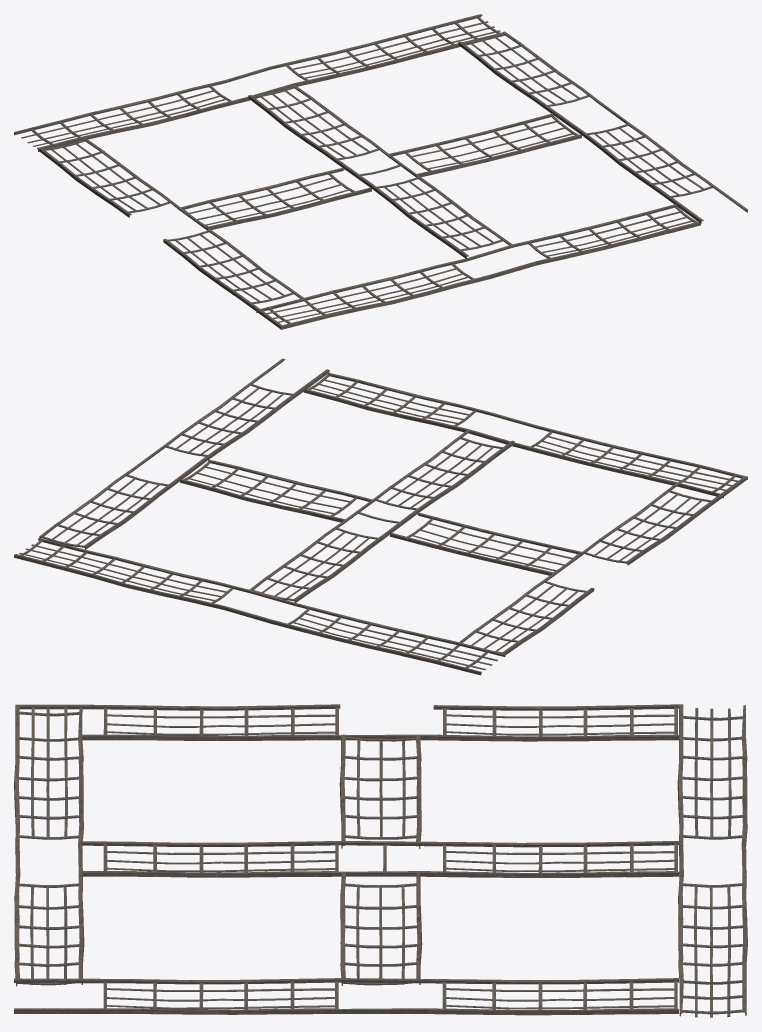
File: Corridor_00_02.fbx
The picture shows the model from 3 angles, top to bottom: view 1: azimuth 30°, elevation 25°; view 2: azimuth 150°, elevation 25°; view 3: azimuth 270°, elevation 25°; orthographic projection. The views are drawn at different scales.
Visible parts, largest first — view 1: Corridor_00_02; view 2: Corridor_00_02; view 3: Corridor_00_02.
Part boxes in pixels (x1,y1,x2,y2): Corridor_00_02: [14, 14, 747, 329]; Corridor_00_02: [14, 358, 747, 675]; Corridor_00_02: [14, 704, 747, 1017].
Size of the model in its own units: 3744 by 77.49 by 3718.
